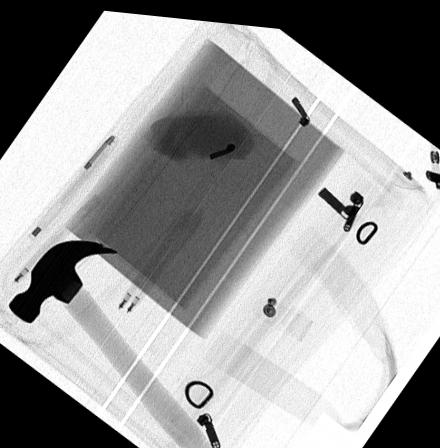Hammer: (6, 237, 220, 448)
